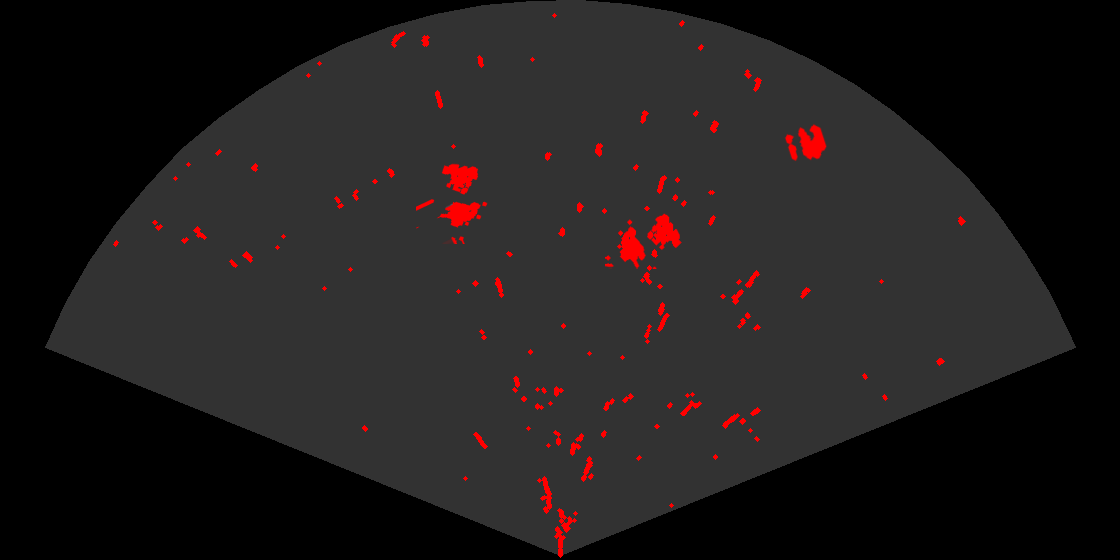ball: (783, 122, 828, 163)
cage: (416, 162, 489, 244), (605, 212, 683, 269)
